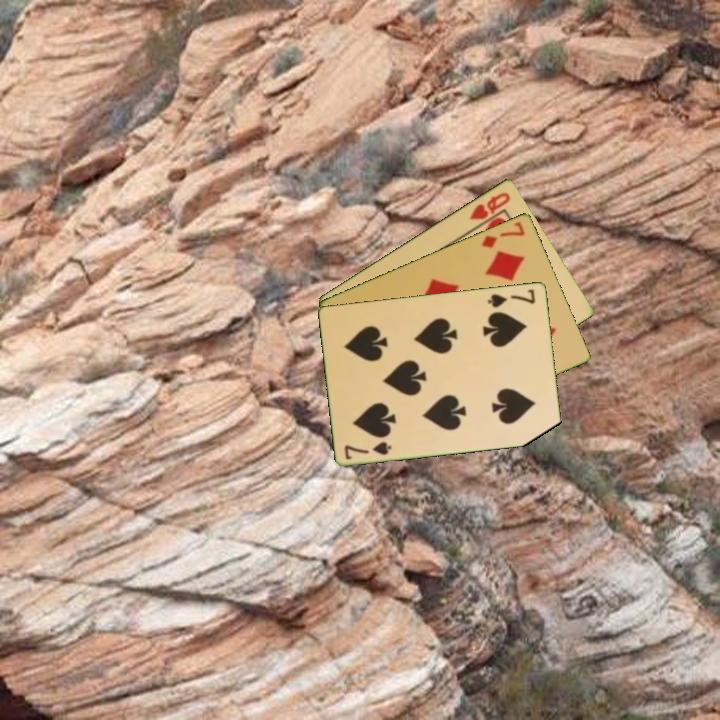7d: (478, 218, 528, 251)
7s: (484, 285, 538, 310), (341, 438, 395, 462)
Qh: (466, 188, 513, 222)
